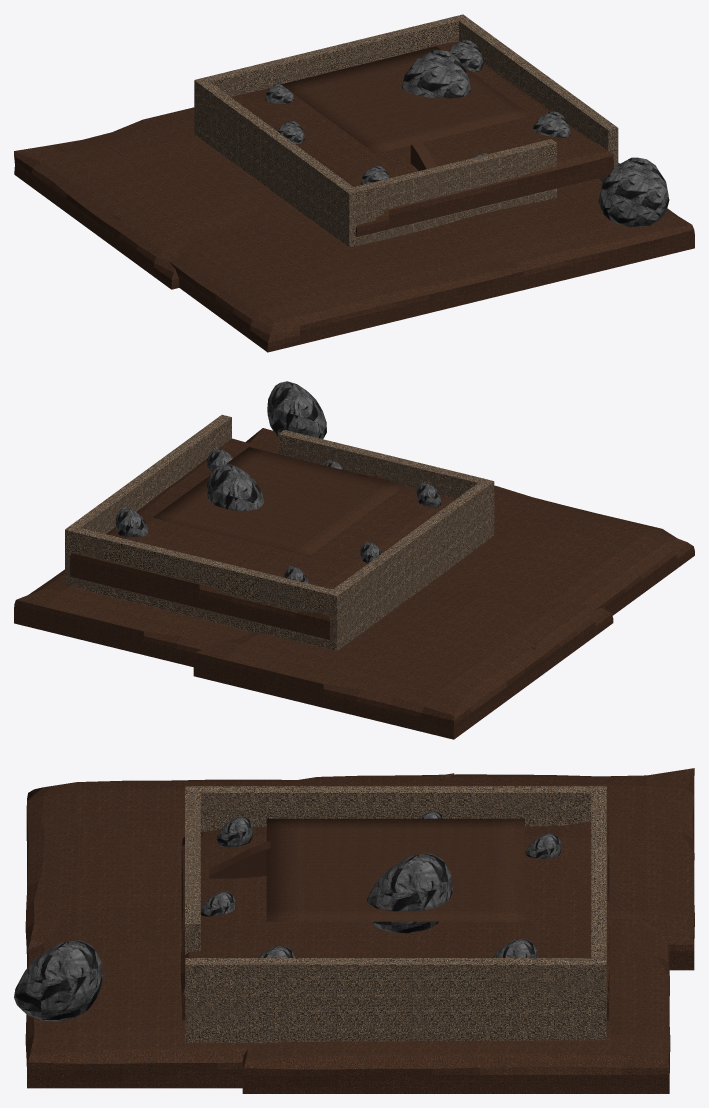
Rendered from planeGroundMap.glb.
3 views of the same model, one above another, from view 1: azimuth 30°, elevation 25°; view 2: azimuth 150°, elevation 25°; view 3: azimuth 270°, elevation 25° (orthographic). The views are drawn at different scales.
Visible parts, largest first — view 1: undergRound.005, undergRound.002, undergRound, undergRound.004, baseGround, wall1.001, wall1.003, wall1.002, wall1.004, rock.007, rock.001, rock.010 (+2 smaller); view 2: undergRound.002, undergRound.005, undergRound, baseGround, wall1.002, wall1.001, undergRound.003, wall1.003, wall1.004, rock.007, rock.001, rock.002; view 3: wall1.004, undergRound.003, undergRound.004, undergRound, baseGround, undergRound.005, undergRound.002, wall1.001, rock.007, rock.001, wall1.002, wall1.003 (+5 smaller).
Boxes of the visible parts, <box> form: undergRound.005: <box>110,198,524,352</box>; undergRound.002: <box>14,107,280,289</box>; undergRound: <box>231,42,613,236</box>; undergRound.004: <box>414,178,694,310</box>; baseGround: <box>281,46,530,153</box>; wall1.001: <box>194,78,358,246</box>; wall1.003: <box>350,139,556,245</box>; wall1.002: <box>195,17,458,96</box>; wall1.004: <box>453,14,618,182</box>; rock.007: <box>598,157,669,227</box>; rock.001: <box>401,50,470,98</box>; rock.010: <box>533,111,570,137</box>; undergRound.002: <box>193,587,613,739</box>; undergRound.005: <box>425,485,694,650</box>; undergRound: <box>69,438,454,639</box>; baseGround: <box>153,447,405,555</box>; wall1.002: <box>65,528,341,650</box>; wall1.001: <box>327,479,494,650</box>; undergRound.003: <box>14,569,252,666</box>; wall1.003: <box>278,430,487,499</box>; wall1.004: <box>65,414,231,533</box>; rock.007: <box>267,381,326,438</box>; rock.001: <box>206,463,263,511</box>; rock.002: <box>115,508,148,537</box>; wall1.004: <box>185,958,606,1042</box>; undergRound.003: <box>242,917,670,1093</box>; undergRound.004: <box>25,902,452,1088</box>; undergRound: <box>180,818,609,1020</box>; baseGround: <box>266,818,524,921</box>; undergRound.005: <box>25,773,454,953</box>; undergRound.002: <box>293,768,694,970</box>; wall1.001: <box>185,786,605,831</box>; rock.007: <box>14,940,102,1021</box>; rock.001: <box>367,853,452,933</box>; wall1.002: <box>591,786,606,1039</box>; wall1.003: <box>185,790,200,954</box>.
Bounding box in the file's own units: 1857 × 469 × 1812.
Materials: 3 (3 with a texture image).
